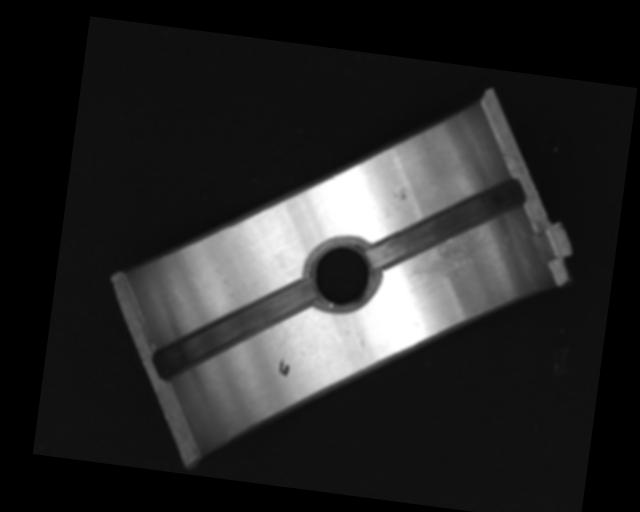blot: (276, 357, 291, 377)
bruise: (391, 183, 410, 203)
gap: (151, 261, 314, 396), (367, 160, 527, 284)
hole: (305, 232, 381, 315)
nick: (348, 324, 376, 367)
scratch: (404, 220, 494, 295)
